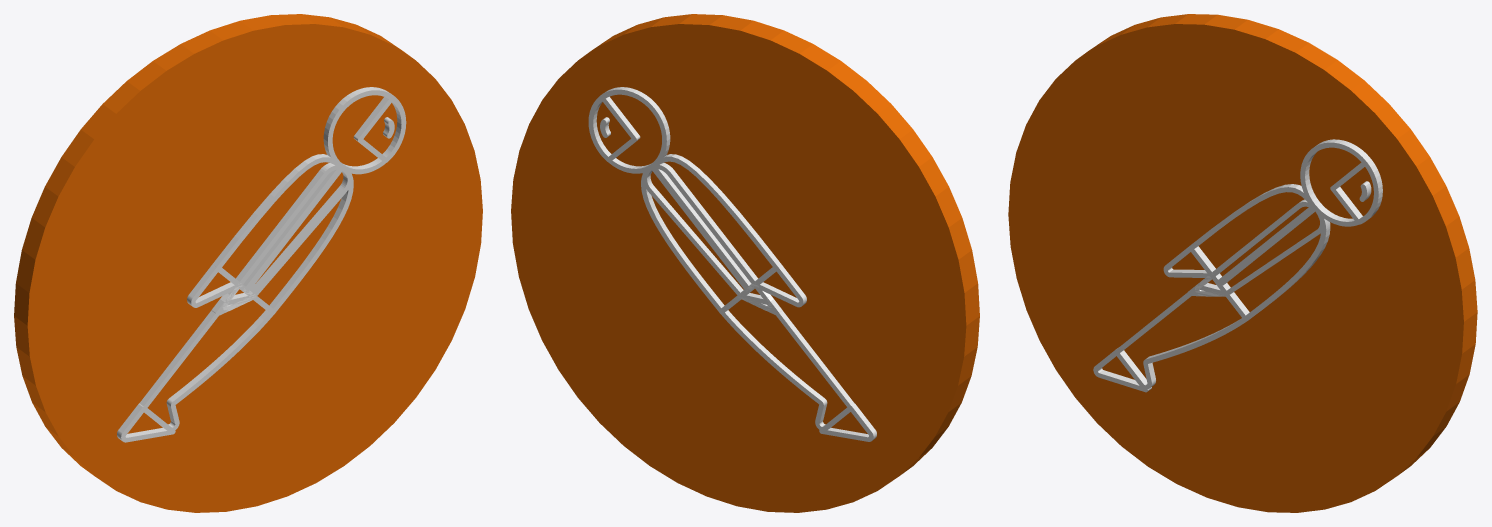
The model's file is postmanapi.glb.
3 renders of one model, left to right at view 1: azimuth 30°, elevation 25°; view 2: azimuth 150°, elevation 25°; view 3: azimuth 330°, elevation 25°, orthographic.
Parts seen in each view (by area): view 1: Curve.019; view 2: Curve.019; view 3: Curve.019.
Boxes of the visible parts, x1=… form: Curve.019: x1=14, y1=14, x2=482, y2=512; Curve.019: x1=511, y1=14, x2=979, y2=512; Curve.019: x1=1008, y1=14, x2=1477, y2=512.
Bounding box in the file's own units: 0.2258 × 0.2257 × 0.0184.
